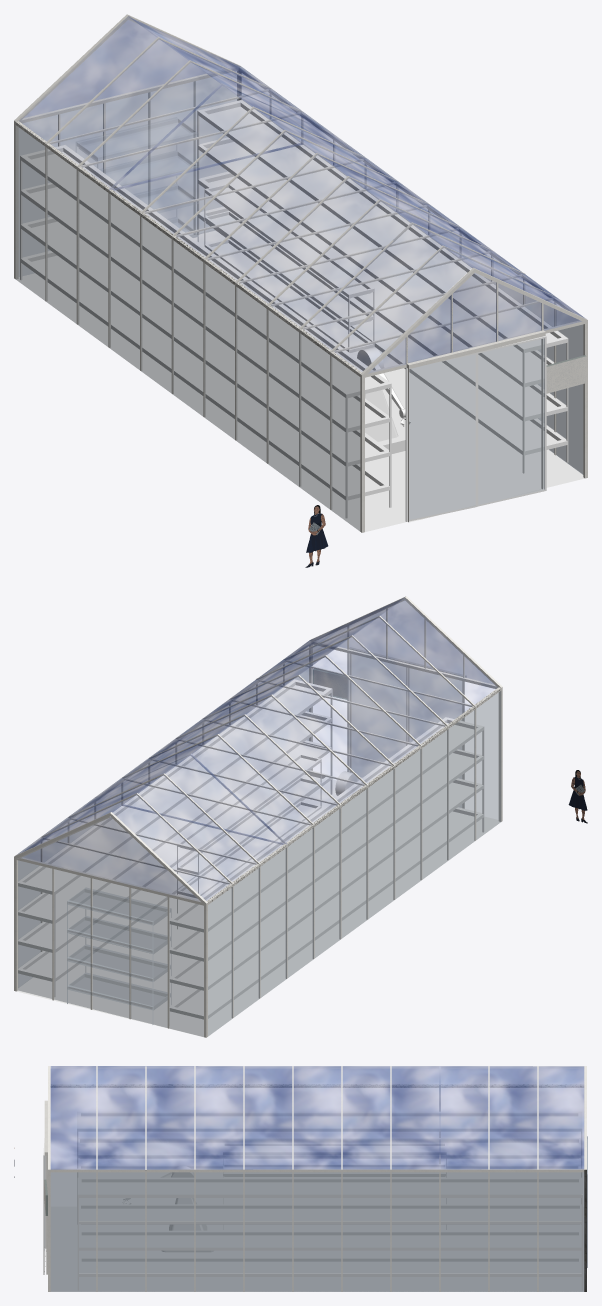
Rendered from мой первый 3D.dae.
The picture shows the model from 3 angles, top to bottom: view 1: azimuth 30°, elevation 25°; view 2: azimuth 150°, elevation 25°; view 3: azimuth 270°, elevation 25°; orthographic projection. The views are drawn at different scales.
Visible parts, largest first — view 1: SketchUp (×13), group_8 (×5), group_13 (×3), group_5, group_15 (×3), group_12 (×2), group_70, group_17, group_71, group_66 (×2), group_22, group_1 (+4 smaller); view 2: SketchUp (×10), group_8 (×5), group_13 (×3), group_15 (×3), group_5, group_12 (×2), group_70, group_24, group_21, group_22, group_17, group_71 (+4 smaller); view 3: SketchUp (×4), group_8 (×6), group_13 (×6), group_5, group_12 (×3), group_15 (×4), group_71, group_70, group_64 (×2), group_69, group_4, group_90.
Part boxes in pixels (x1=…): SketchUp (×13): x1=16, y1=16, x2=586, y2=530; group_8 (×5): x1=21, y1=100, x2=567, y2=398; group_13 (×3): x1=21, y1=137, x2=554, y2=432; group_5: x1=16, y1=229, x2=584, y2=531; group_15 (×3): x1=21, y1=171, x2=567, y2=466; group_12 (×2): x1=21, y1=206, x2=567, y2=500; group_70: x1=15, y1=121, x2=361, y2=376; group_17: x1=77, y1=118, x2=198, y2=160; group_71: x1=239, y1=67, x2=583, y2=317; group_66 (×2): x1=14, y1=14, x2=476, y2=377; group_22: x1=102, y1=152, x2=198, y2=185; group_1: x1=19, y1=67, x2=238, y2=123; SketchUp (×10): x1=17, y1=598, x2=500, y2=1036; group_8 (×5): x1=18, y1=679, x2=483, y2=932; group_13 (×3): x1=18, y1=711, x2=483, y2=961; group_15 (×3): x1=18, y1=740, x2=483, y2=990; group_5: x1=17, y1=779, x2=500, y2=1037; group_12 (×2): x1=18, y1=770, x2=484, y2=1019; group_70: x1=206, y1=687, x2=501, y2=904; group_24: x1=67, y1=944, x2=170, y2=981; group_21: x1=67, y1=973, x2=170, y2=1010; group_22: x1=67, y1=916, x2=170, y2=953; group_17: x1=67, y1=888, x2=171, y2=925; group_71: x1=17, y1=641, x2=310, y2=854; SketchUp (×4): x1=50, y1=1066, x2=584, y2=1291; group_8 (×6): x1=77, y1=1112, x2=582, y2=1197; group_13 (×6): x1=77, y1=1138, x2=582, y2=1224; group_5: x1=51, y1=1207, x2=583, y2=1291; group_12 (×3): x1=77, y1=1198, x2=581, y2=1276; group_15 (×4): x1=77, y1=1165, x2=582, y2=1250; group_71: x1=50, y1=1169, x2=584, y2=1172; group_70: x1=51, y1=1084, x2=584, y2=1087; group_64 (×2): x1=48, y1=1066, x2=586, y2=1169; group_69: x1=48, y1=1169, x2=50, y2=1291; group_4: x1=584, y1=1170, x2=586, y2=1291; group_90: x1=169, y1=1198, x2=206, y2=1230.
Size of the model in its own units: 332 by 700 by 247.
